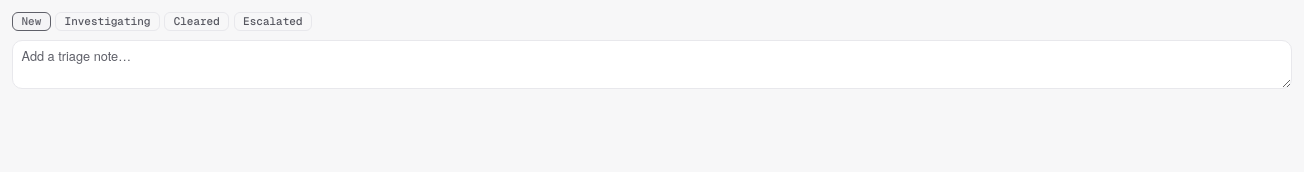
it: TriageAnnotation › shows no badge until triaged, then reflects the status live (event-synced)
Click the button "Cleared" at (197, 22), box [164,12,229,31]
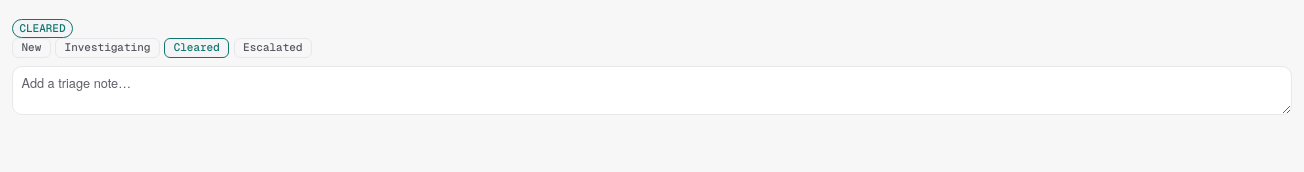
Expected: the text named "Triage: Cleared" is shown, [12,19,73,38]
